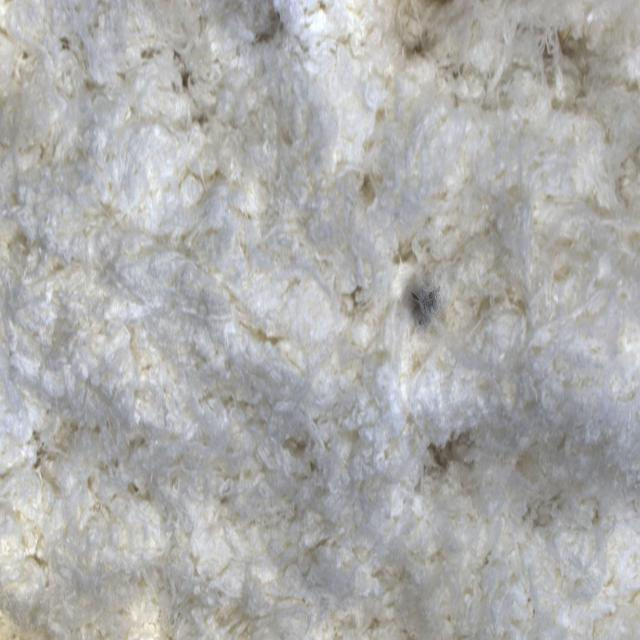dust: (369, 251, 463, 346)
